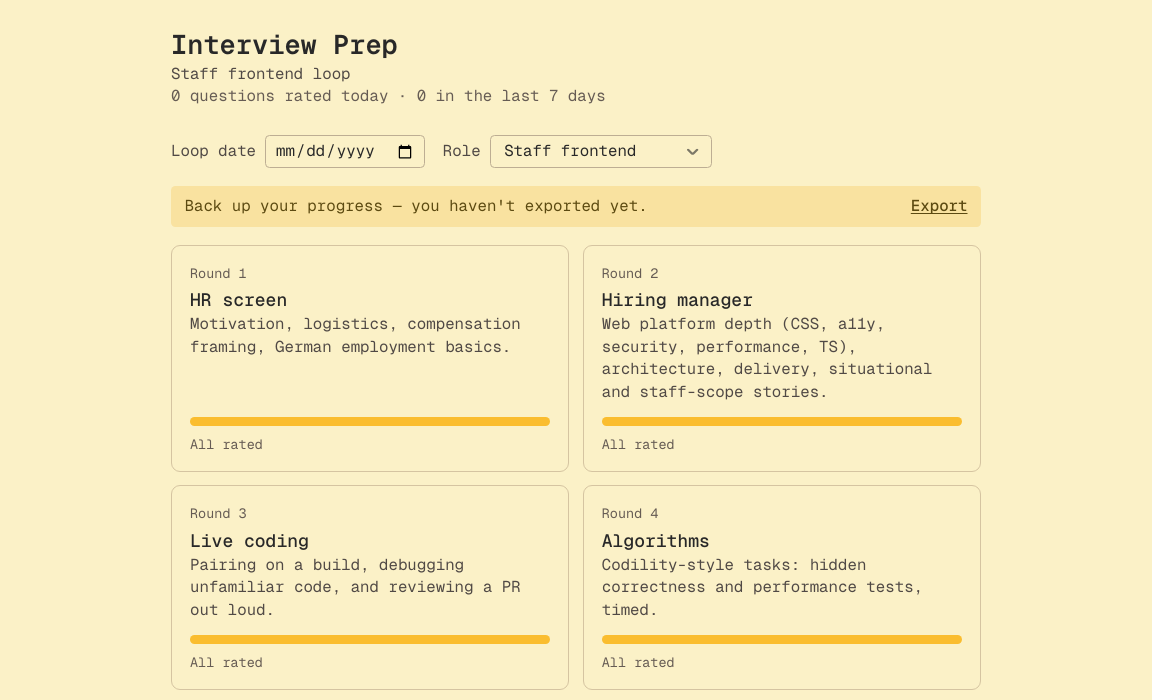
Home › with a loop date, cards reorder by urgency and drop the Round N label
Type "2026-12-31" into the date field labelled "Loop date" at (345, 152), box [265,135,425,168]
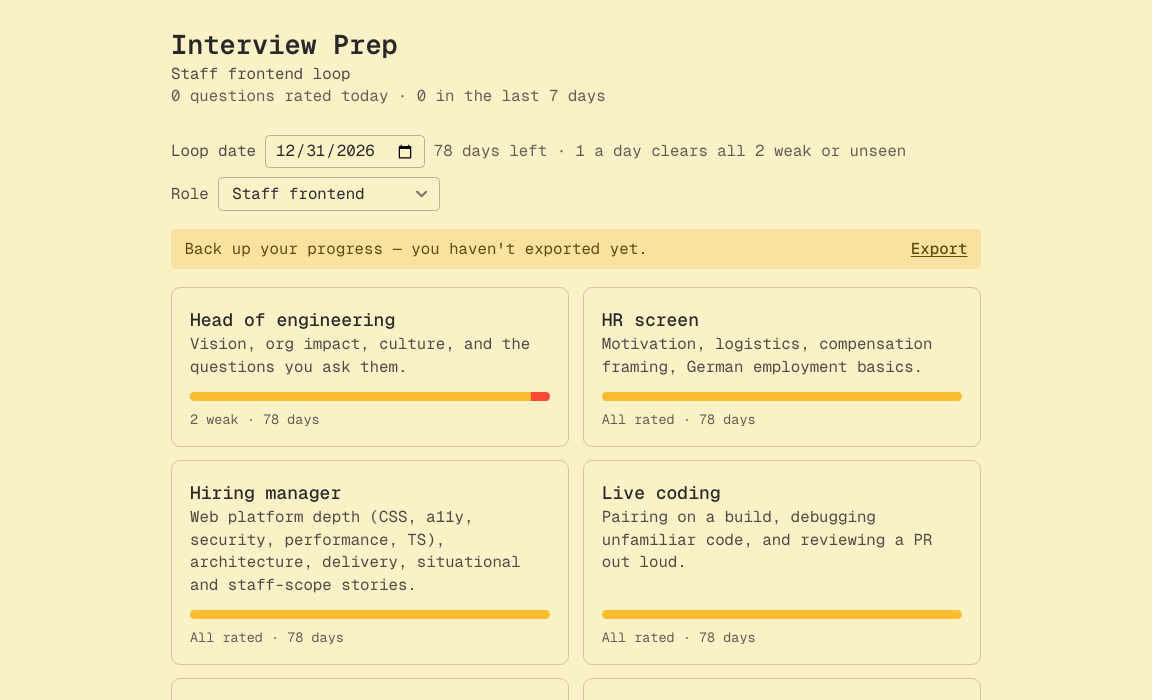
Expected: the heading "Head of engineering" is shown, [190,308,395,332]
Now the text "Round 1" is gone
